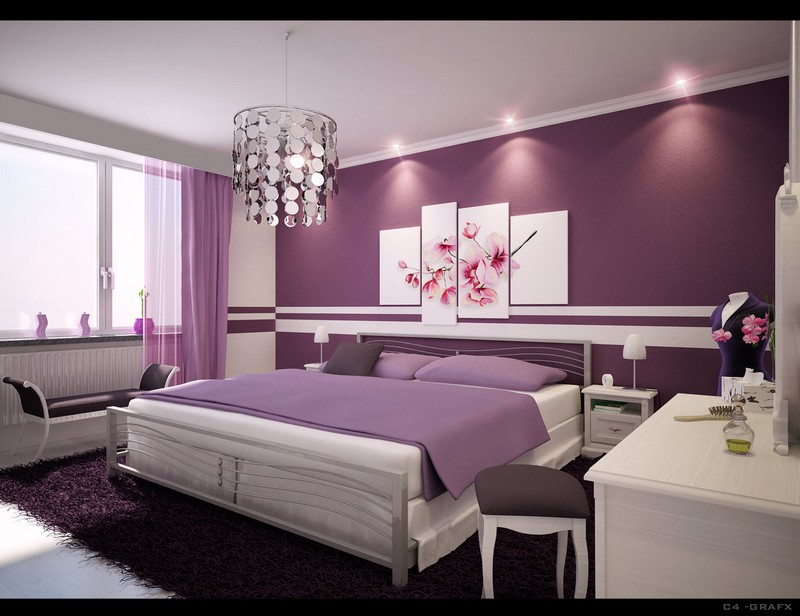bed: (109, 323, 593, 587)
chair: (5, 362, 186, 461), (472, 460, 591, 597)
lamp: (620, 330, 648, 391), (312, 322, 331, 363)
stool: (582, 379, 659, 469)
